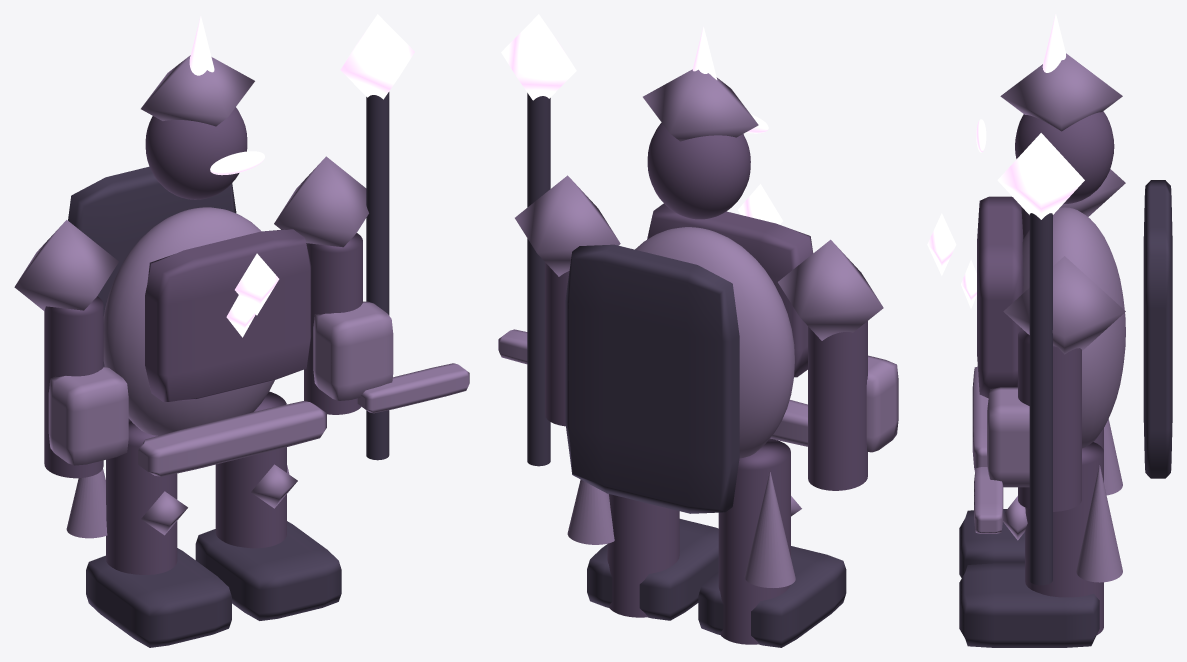
The model's file is dark-mage.glb.
3 renders of one model, left to right at view 1: azimuth 30°, elevation 25°; view 2: azimuth 150°, elevation 25°; view 3: azimuth 270°, elevation 25°, orthographic.
Parts seen in each view (by area): view 1: breastplate, torso, leftBoot, rightBoot, BeltArmor, cape, leftLeg, LeftForearmGuard, RightForearmGuard, head, staff, rightLeg (+14 smaller); view 2: cape, torso, arm-1, leftLeg, head, leftBoot, staff, rightLeg, shoulder-1, rightBoot, breastplate, shoulder1 (+10 smaller); view 3: rightBoot, staff, cape, breastplate, torso, arm1, shoulder1, helmet, rightLeg, head, staffOrb, RightForearmGuard (+10 smaller).
Part boxes in pixels (bbox=[...]): breastplate: bbox=[145, 229, 311, 401]; torso: bbox=[103, 207, 274, 435]; leftBoot: bbox=[86, 548, 231, 647]; rightBoot: bbox=[195, 521, 341, 620]; BeltArmor: bbox=[138, 401, 326, 476]; cape: bbox=[68, 166, 236, 366]; leftLeg: bbox=[106, 418, 177, 574]; LeftForearmGuard: bbox=[48, 366, 128, 465]; RightForearmGuard: bbox=[313, 301, 393, 400]; head: bbox=[145, 107, 247, 199]; staff: bbox=[366, 92, 389, 460]; rightLeg: bbox=[215, 391, 286, 548]; cape: bbox=[565, 244, 739, 513]; torso: bbox=[635, 227, 794, 458]; arm-1: bbox=[808, 321, 867, 490]; leftLeg: bbox=[718, 438, 790, 644]; head: bbox=[647, 122, 750, 219]; leftBoot: bbox=[698, 546, 846, 647]; staff: bbox=[527, 93, 550, 466]; rightLeg: bbox=[607, 494, 679, 617]; shoulder-1: bbox=[778, 239, 883, 340]; rightBoot: bbox=[587, 519, 718, 620]; breastplate: bbox=[647, 203, 813, 377]; shoulder1: bbox=[515, 175, 620, 276]; rightBoot: bbox=[959, 563, 1099, 647]; staff: bbox=[1029, 213, 1052, 585]; cape: bbox=[1143, 180, 1172, 478]; breastplate: bbox=[977, 196, 1023, 398]; torso: bbox=[1022, 207, 1125, 448]; arm1: bbox=[1018, 329, 1081, 511]; shoulder1: bbox=[1003, 256, 1125, 354]; helmet: bbox=[1000, 53, 1122, 131]; rightLeg: bbox=[1025, 442, 1103, 634]; head: bbox=[1015, 111, 1114, 203]; staffOrb: bbox=[997, 133, 1084, 219]; RightForearmGuard: bbox=[987, 387, 1029, 487].
Size of the model in its own units: 1.66 by 2.22 by 0.84.
